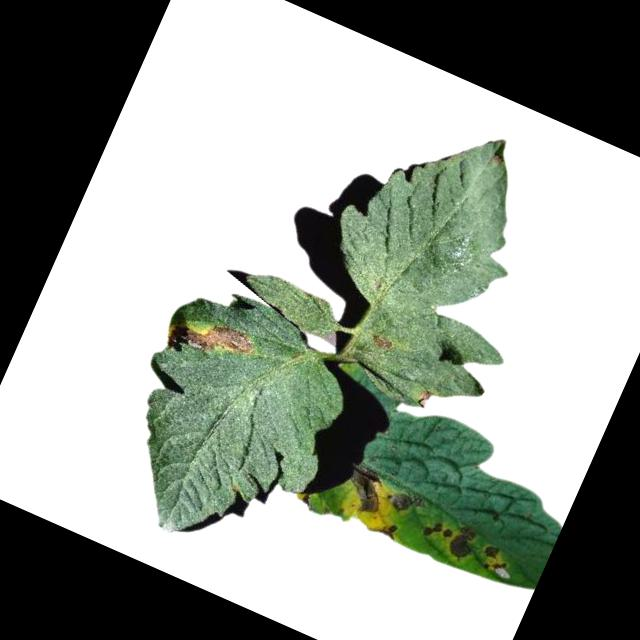Early_blight: (159, 305, 267, 387), (337, 461, 392, 517), (443, 523, 482, 569), (474, 543, 515, 585), (419, 516, 454, 549), (388, 486, 422, 518), (369, 514, 403, 545), (371, 331, 401, 357), (414, 387, 436, 412)
